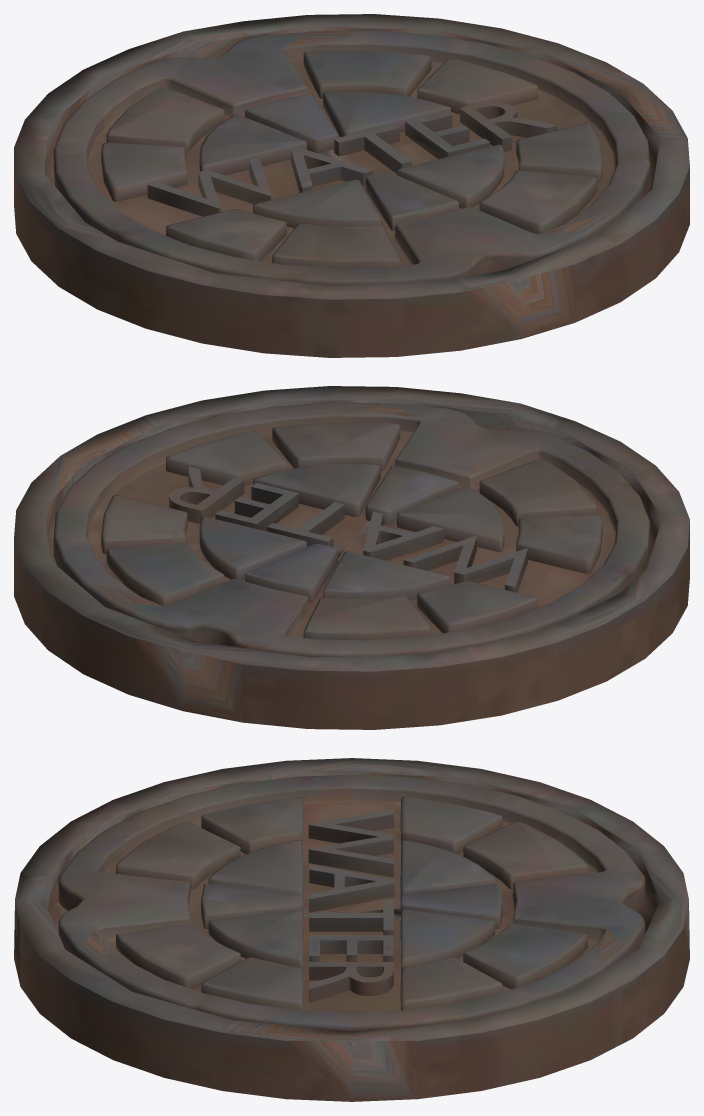
Rendered from water_manhole_cover.glb.
3 renders of one model, top to bottom at view 1: azimuth 30°, elevation 25°; view 2: azimuth 150°, elevation 25°; view 3: azimuth 270°, elevation 25°, orthographic.
Parts seen in each view (by area): view 1: water_manhole_cover, water_manhole_cover_frame; view 2: water_manhole_cover, water_manhole_cover_frame; view 3: water_manhole_cover, water_manhole_cover_frame.
Boxes of the visible parts, bbox=[...] form: water_manhole_cover: bbox=[53, 30, 650, 286]; water_manhole_cover_frame: bbox=[14, 14, 689, 357]; water_manhole_cover: bbox=[53, 402, 650, 657]; water_manhole_cover_frame: bbox=[14, 386, 689, 729]; water_manhole_cover: bbox=[58, 774, 645, 1030]; water_manhole_cover_frame: bbox=[14, 758, 689, 1101].
Size of the model in its own units: 0.6908 by 0.0676 by 0.6908.
Materials: 1 (1 with a texture image).
